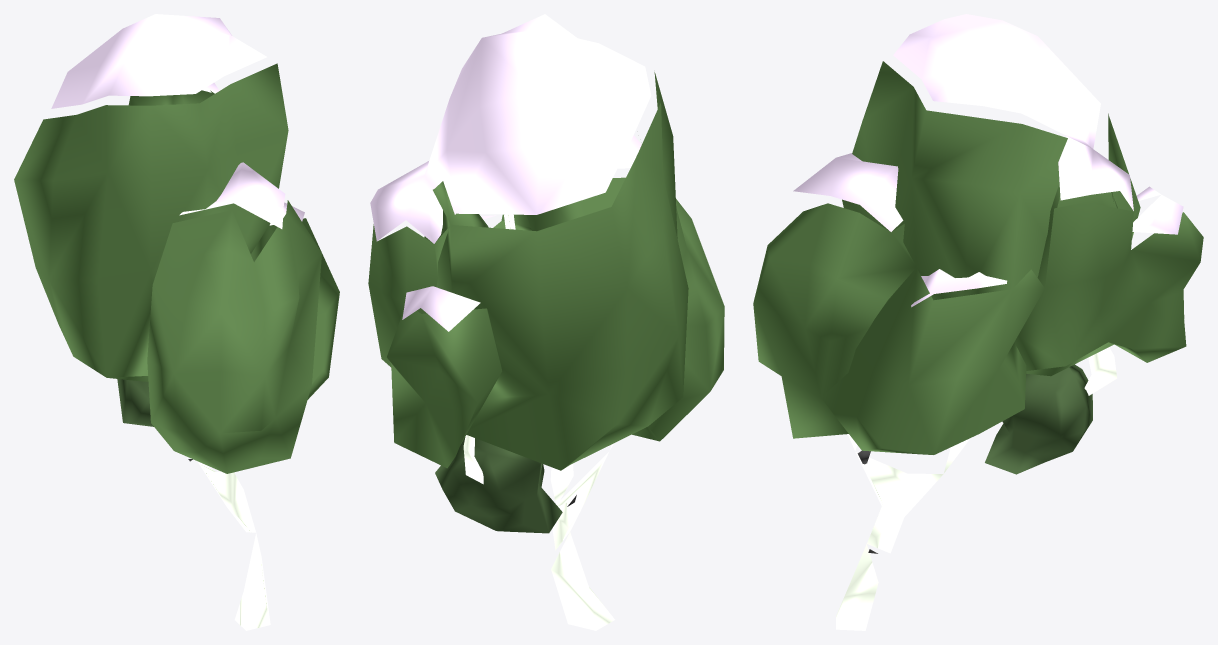
File: BirchTree_Snow_1_lod.glb
The picture shows the model from 3 angles, left to right: view 1: azimuth 30°, elevation 25°; view 2: azimuth 150°, elevation 25°; view 3: azimuth 270°, elevation 25°; orthographic projection. The views are drawn at different scales.
Visible parts, largest first — view 1: BirchTree_Snow_1; view 2: BirchTree_Snow_1; view 3: BirchTree_Snow_1.
Boxes of the visible parts, x1=… form: BirchTree_Snow_1: x1=14, y1=14, x2=339, y2=630; BirchTree_Snow_1: x1=368, y1=14, x2=724, y2=630; BirchTree_Snow_1: x1=753, y1=14, x2=1203, y2=630.
Bounding box in the file's own units: 170 × 359 × 248.
